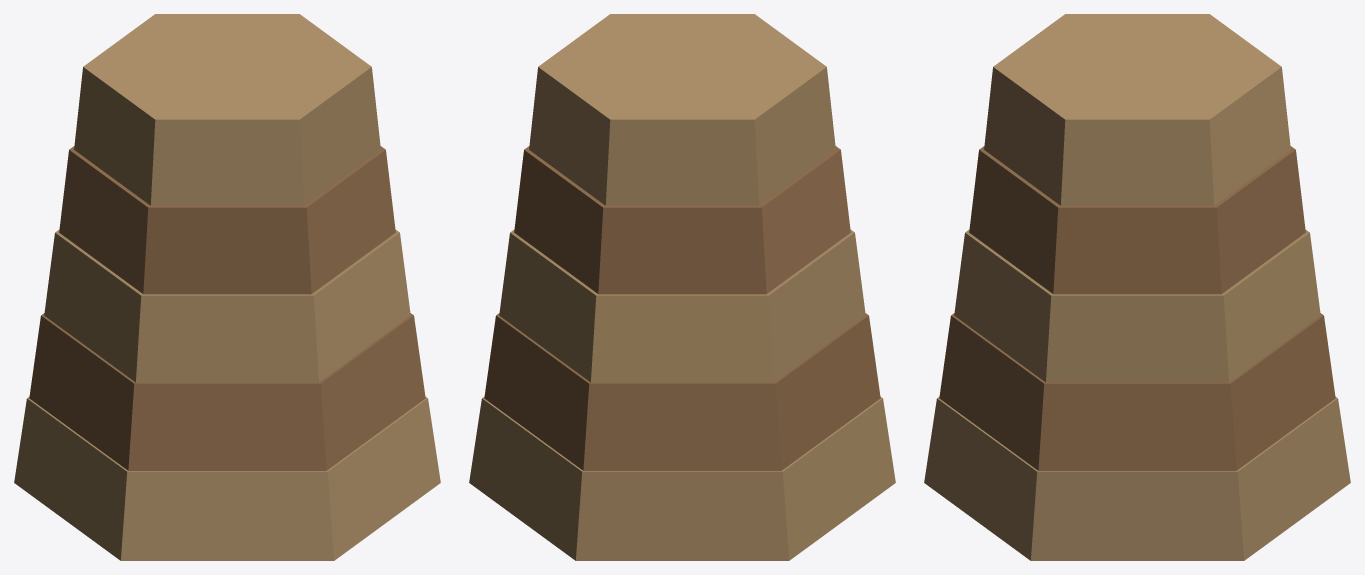
Rendered from desert-rock-3.glb.
The picture shows the model from 3 angles, left to right: view 1: azimuth 30°, elevation 25°; view 2: azimuth 150°, elevation 25°; view 3: azimuth 270°, elevation 25°; orthographic projection.
Parts seen in each view (by area): view 1: desert-rock-3; view 2: desert-rock-3; view 3: desert-rock-3.
Part boxes in pixels (x1,y1,x2,y2): desert-rock-3: (14, 14, 440, 560); desert-rock-3: (469, 14, 895, 560); desert-rock-3: (924, 14, 1350, 560).
Bounding box in the file's own units: 1.21 × 1.51 × 1.4.
